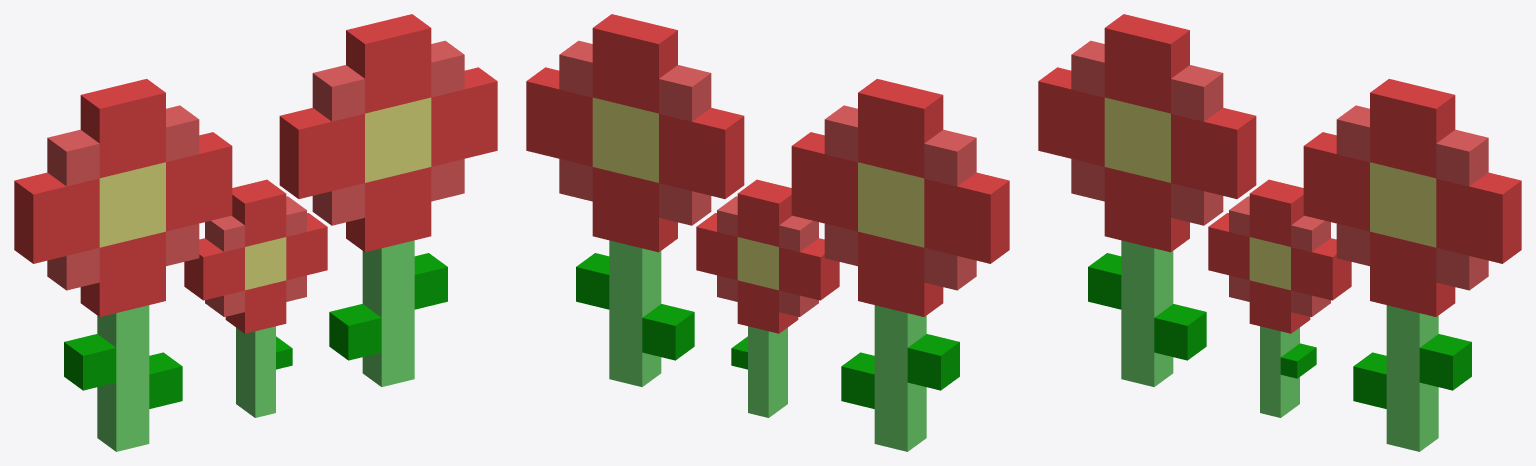
The model's file is flowers_with_leaves.fbx.
3 renders of one model, left to right at view 1: azimuth 30°, elevation 25°; view 2: azimuth 150°, elevation 25°; view 3: azimuth 330°, elevation 25°, orthographic.
Visible parts, largest first — view 1: flower_red_small1; view 2: flower_red_small1; view 3: flower_red_small1.
Boxes of the visible parts, x1,y1,x2,y2 form: flower_red_small1: (14, 14, 497, 451); flower_red_small1: (526, 14, 1009, 451); flower_red_small1: (1038, 14, 1521, 451).
Size of the model in its own units: 175 by 125 by 12.5.
